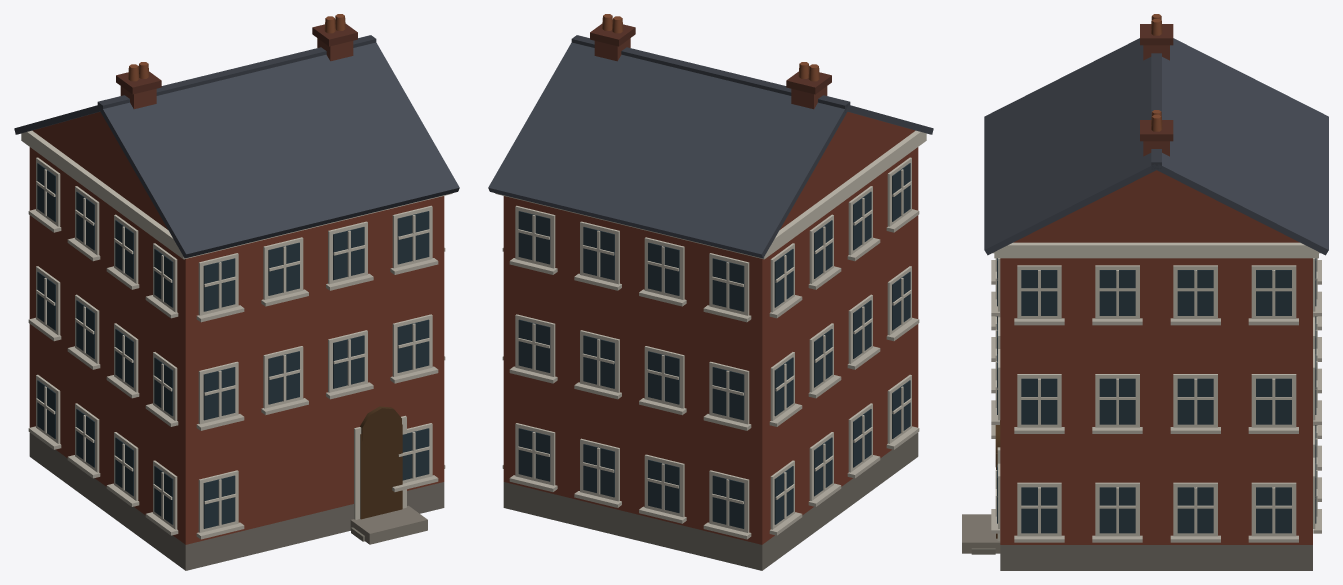
File: procedural_house@5.glb
3 views of the same model, side by side, from view 1: azimuth 30°, elevation 25°; view 2: azimuth 150°, elevation 25°; view 3: azimuth 270°, elevation 25° (orthographic).
Parts seen in each view (by area): view 1: part_0; view 2: part_0; view 3: part_0.
Boxes of the visible parts, left/top/right/bottom form: part_0: left=14, top=14, right=459, bottom=570; part_0: left=488, top=14, right=933, bottom=570; part_0: left=962, top=14, right=1328, bottom=570.
Bounding box in the file's own units: 6.61 × 10.16 × 7.65.
